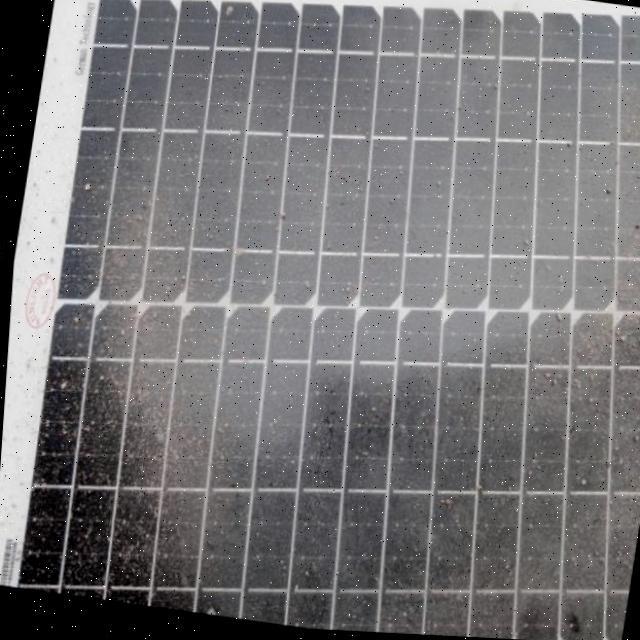Anomaly Solar Panel: (4, 0, 640, 640)
Surface Contaminant: (7, 0, 640, 640)
